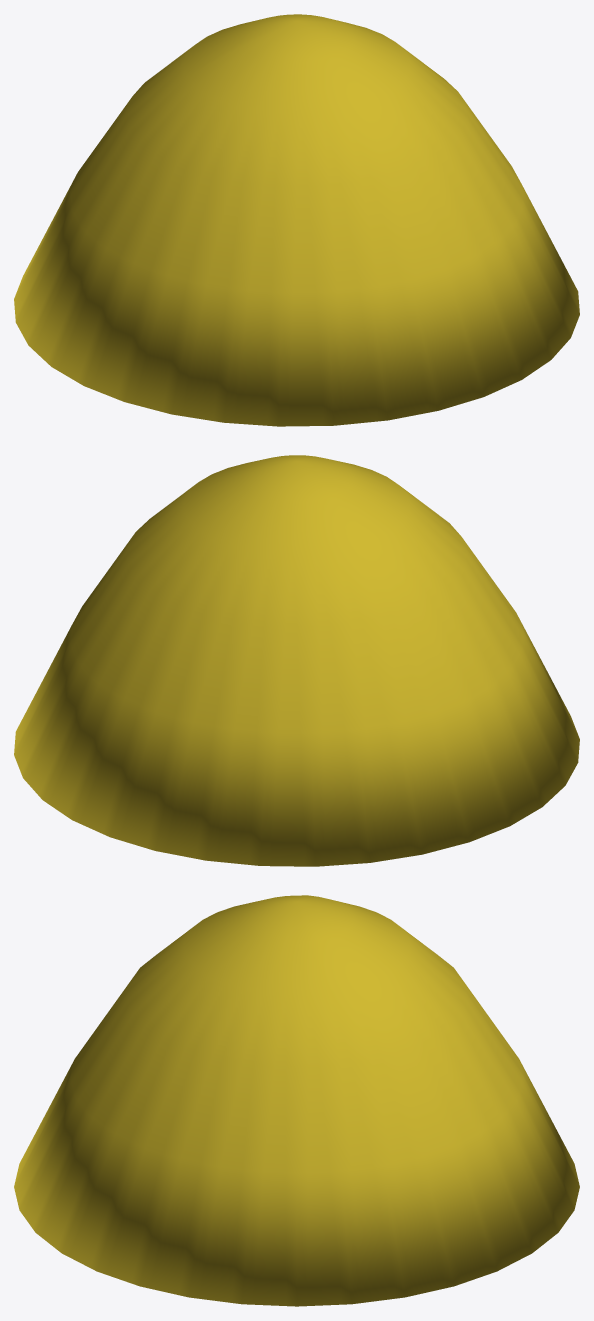
File: urom.fbx
The picture shows the model from 3 angles, top to bottom: view 1: azimuth 30°, elevation 25°; view 2: azimuth 150°, elevation 25°; view 3: azimuth 270°, elevation 25°; orthographic projection.
Visible parts, largest first — view 1: Cone; view 2: Cone; view 3: Cone.
Part boxes in pixels (left/top/right/bottom): Cone: left=14, top=14, right=579, bottom=426; Cone: left=14, top=455, right=579, bottom=866; Cone: left=14, top=895, right=579, bottom=1306.
Size of the model in its own units: 700 by 389 by 700.
